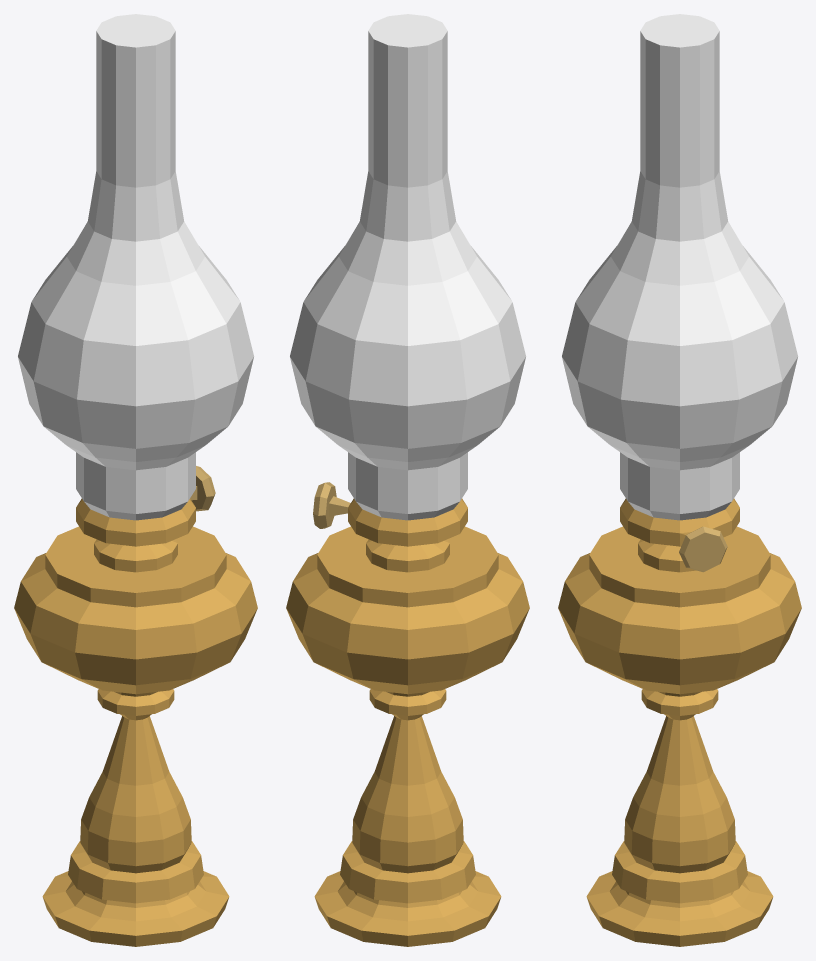
The model's file is WF_LP_HT_Props_HandLamp.003.fbx.
3 views of the same model, side by side, from view 1: azimuth 30°, elevation 25°; view 2: azimuth 150°, elevation 25°; view 3: azimuth 270°, elevation 25° (orthographic).
Parts seen in each view (by area): view 1: WF_LP_HT_Props_HandLamp.003; view 2: WF_LP_HT_Props_HandLamp.003; view 3: WF_LP_HT_Props_HandLamp.003.
Boxes of the visible parts, x1,y1,x2,y2 form: WF_LP_HT_Props_HandLamp.003: (14, 14, 257, 946); WF_LP_HT_Props_HandLamp.003: (286, 14, 529, 946); WF_LP_HT_Props_HandLamp.003: (558, 14, 801, 946).
Size of the model in its own units: 0.1355 by 0.5386 by 0.1355.
